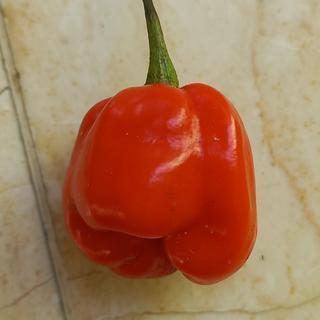Grade-B: (56, 77, 263, 286)
